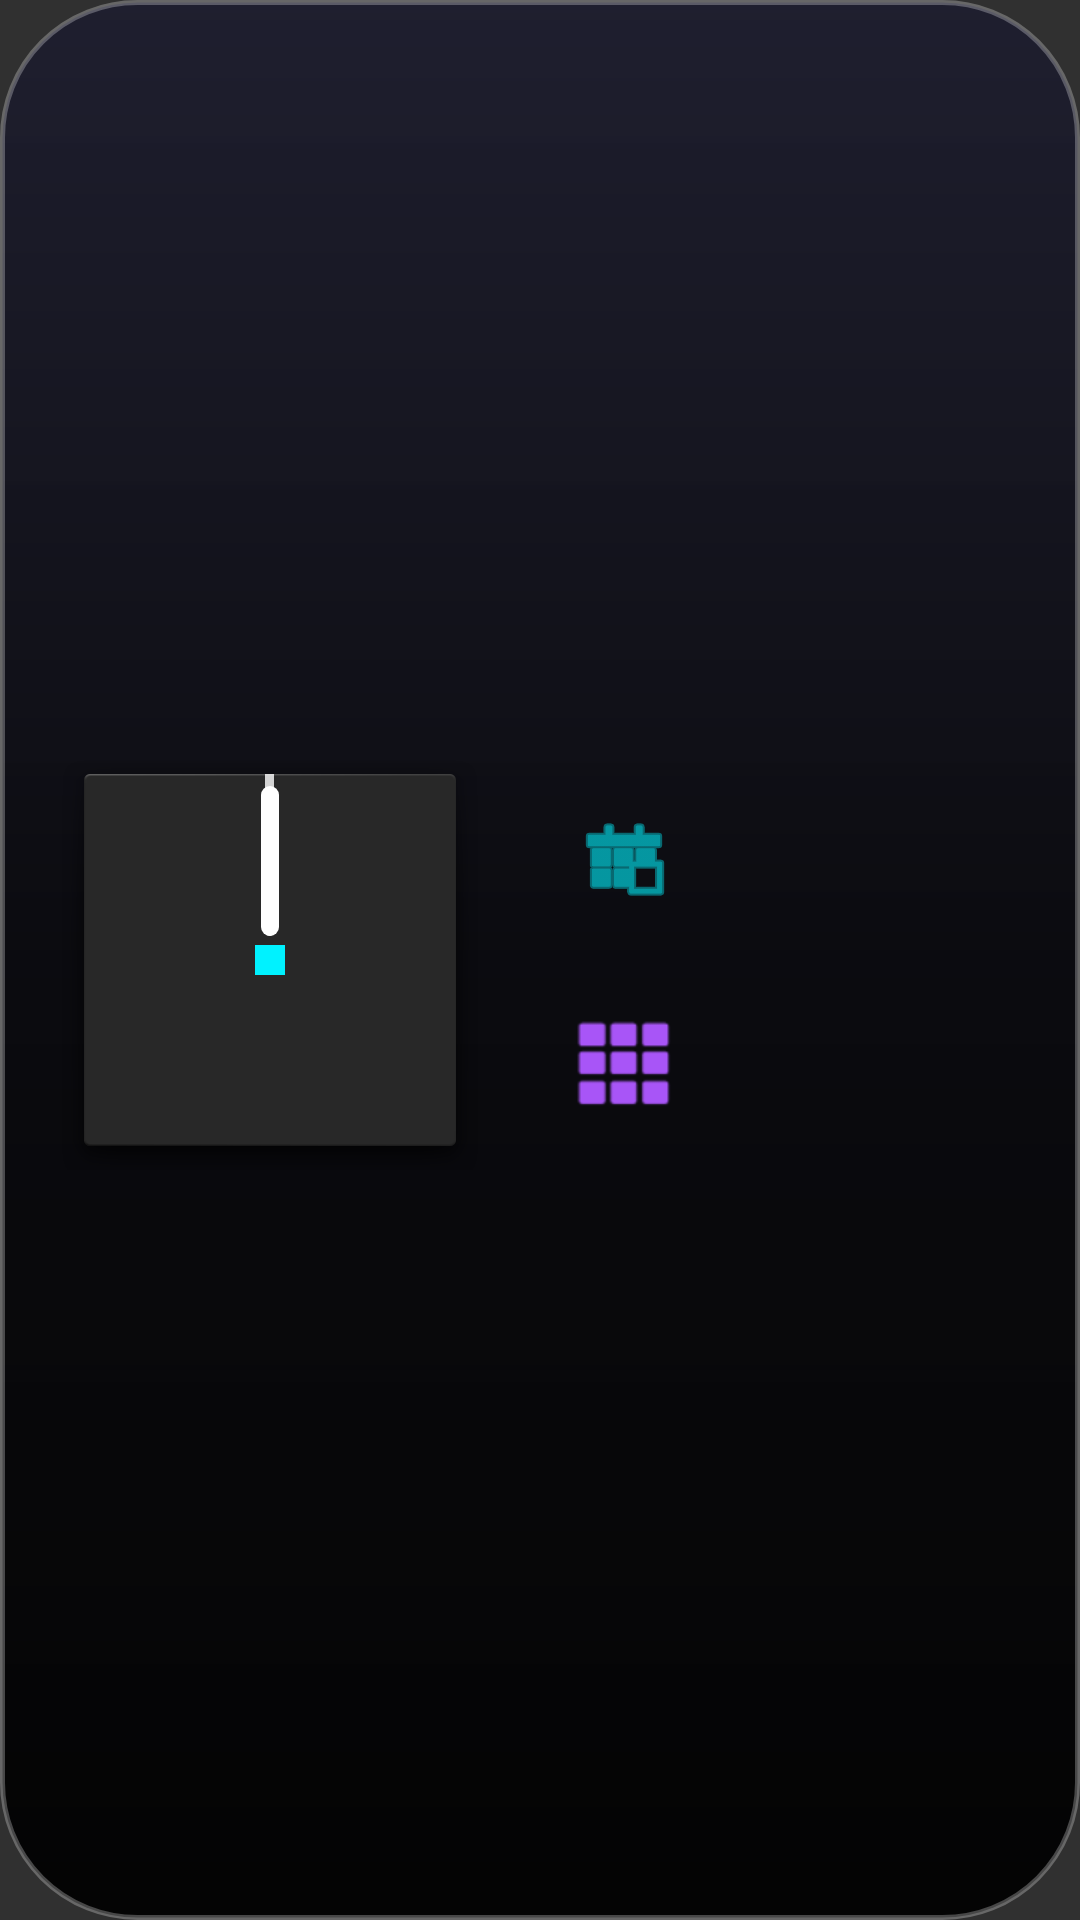

Locate icon controls on the screen. Image size 1080px×1920px, boxes as (x1,y1,x2,y2).
dialer: (577,1021,670,1105)
today: (586,823,664,896)
